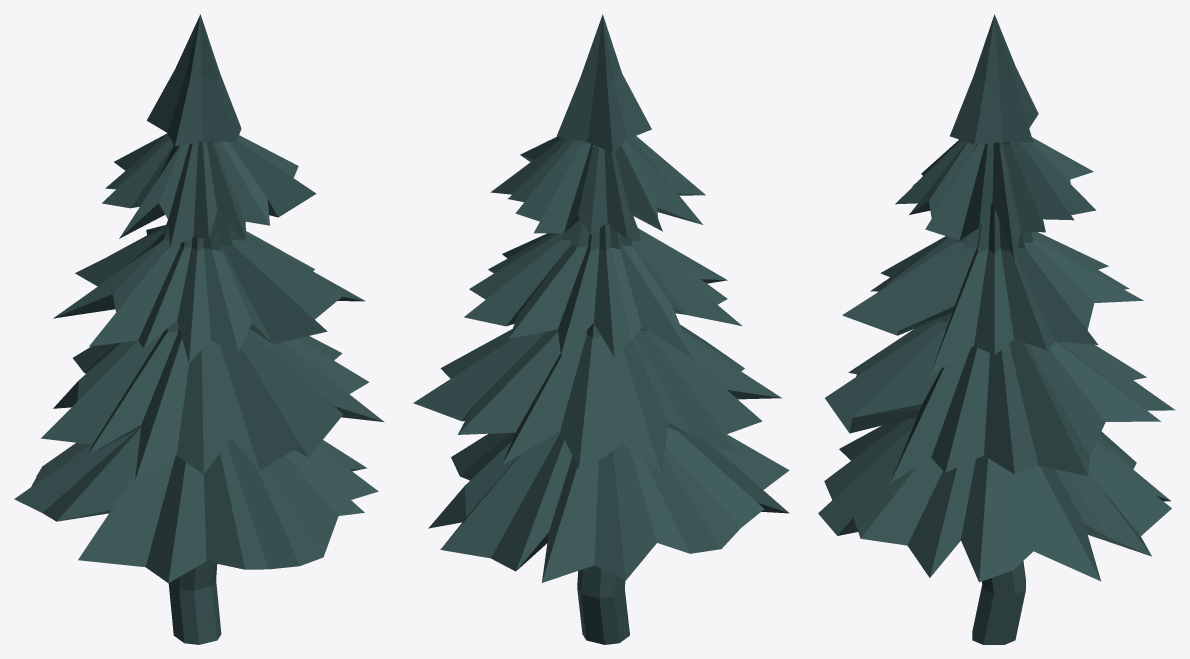
Rendered from tree.glb.
3 views of the same model, side by side, from view 1: azimuth 30°, elevation 25°; view 2: azimuth 150°, elevation 25°; view 3: azimuth 270°, elevation 25° (orthographic).
Parts seen in each view (by area): view 1: Cube.001; view 2: Cube.001; view 3: Cube.001.
Boxes of the visible parts, x1,y1,x2,y2 form: Cube.001: [14, 14, 384, 644]; Cube.001: [413, 14, 789, 644]; Cube.001: [818, 14, 1175, 644].
Bounding box in the file's own units: 3.13 × 5.9 × 3.07.
